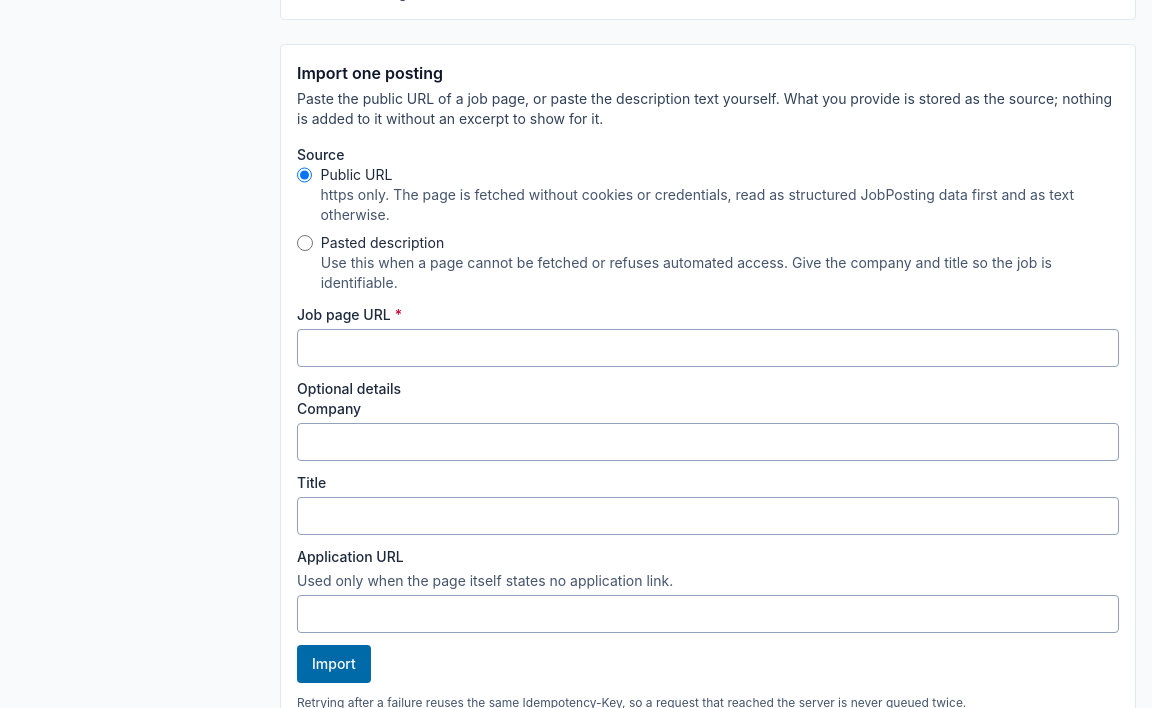
Scenario: discover: manual import › refuses an empty or non-https URL locally and keeps what was typed
The width and height of the screenshot is (1152, 708).
(page scrolled)
In the field labelled "Job page URL*": (708,348) [297,329,1119,367], type "http://insecure.example.test/job"
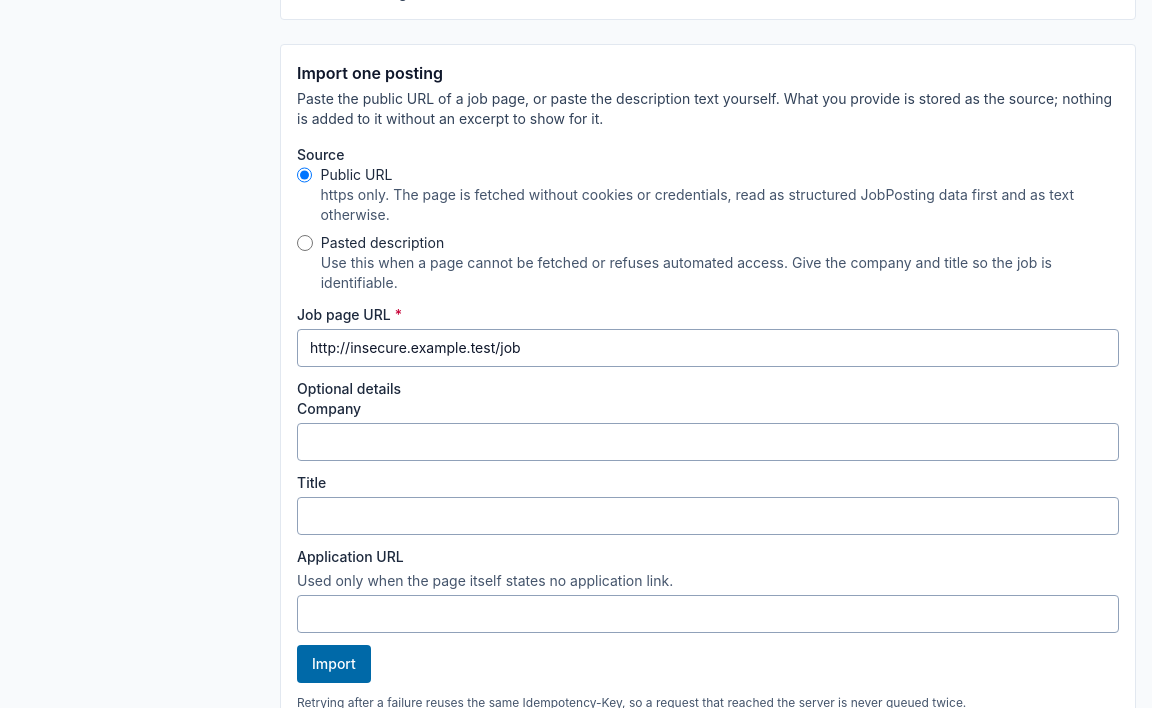
Click the button "Import": (334,664) [297,645,371,683]
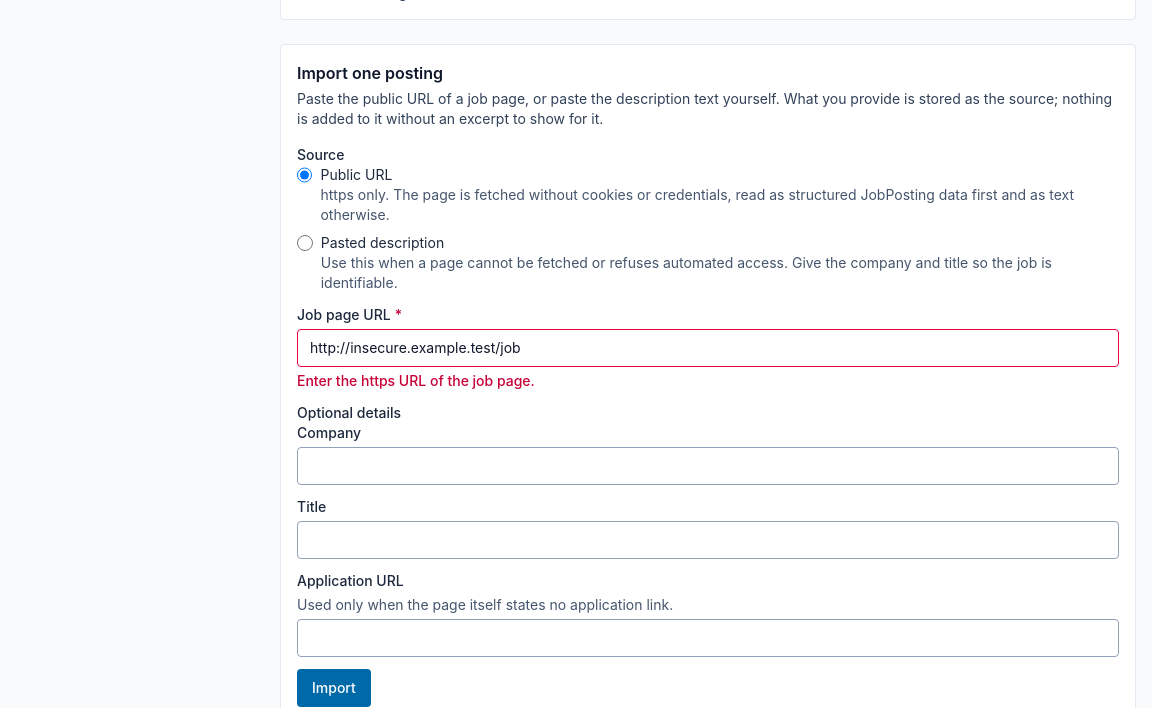
Expected: the message shows "Enter the https URL", [297,372,535,389]
